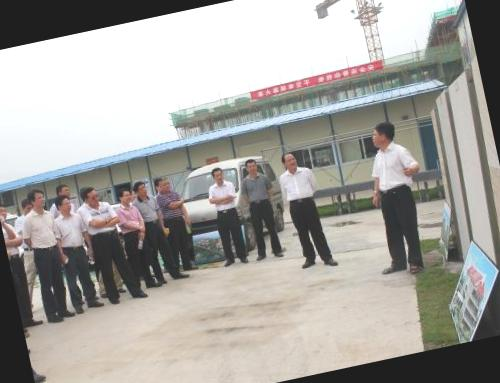no_helmet: (366, 114, 400, 150), (50, 191, 78, 218), (80, 182, 104, 210), (204, 161, 228, 186), (152, 170, 174, 194), (27, 184, 48, 209), (131, 178, 152, 201), (279, 149, 301, 170), (242, 154, 262, 176), (116, 184, 136, 205), (54, 181, 74, 201), (18, 195, 36, 216), (0, 197, 12, 226)
